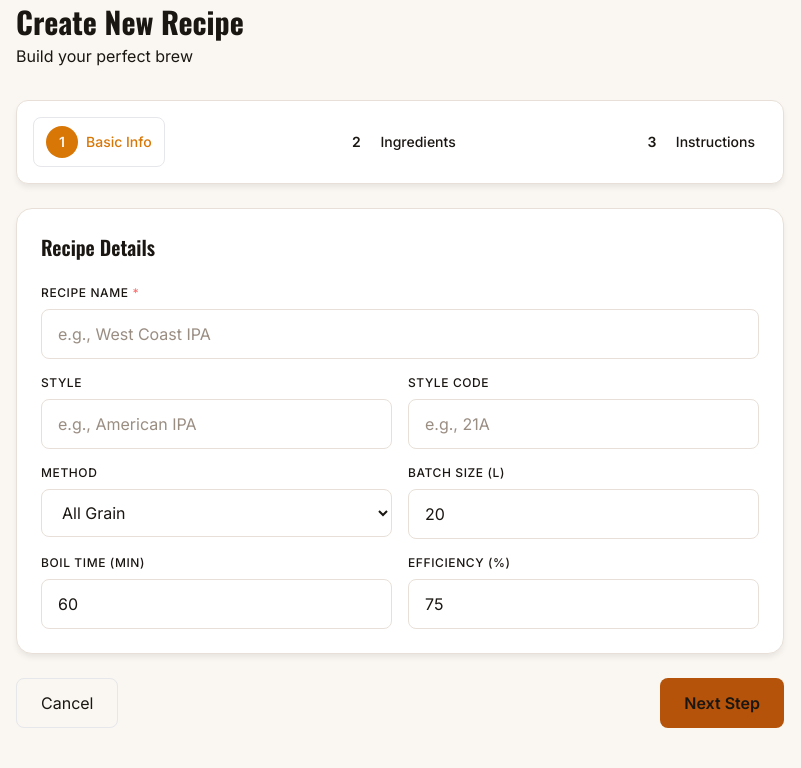
Scenario: RecipeForm Page › Create Mode › has add yeast button
This screenshot has width=801, height=768.
(page scrolled)
Click the button "Next Step": (722,703) [660,678,784,728]
(page scrolled)
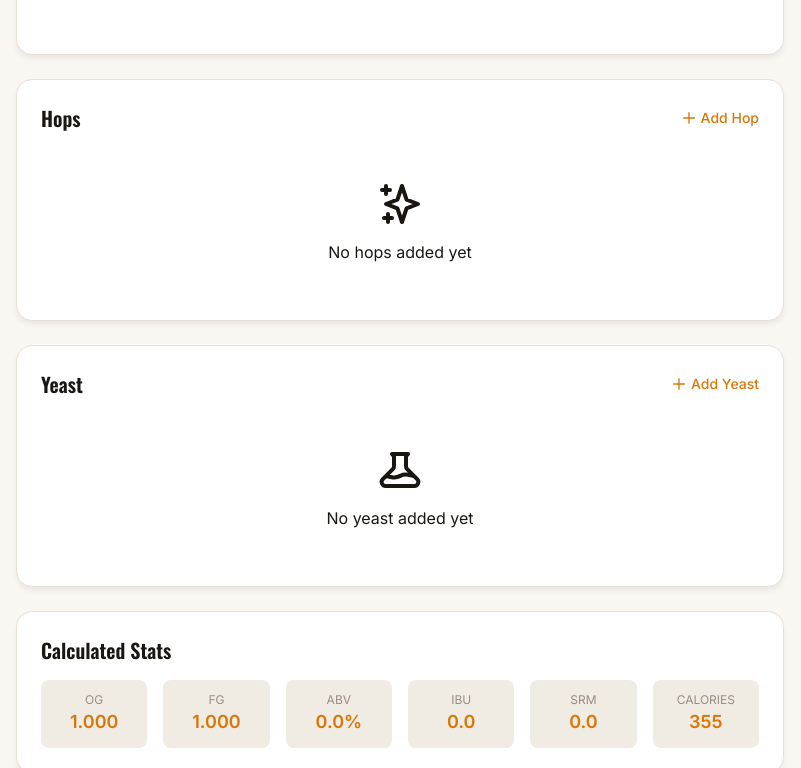
Now the button "Add Yeast" is shown, box [671,374,759,394]
